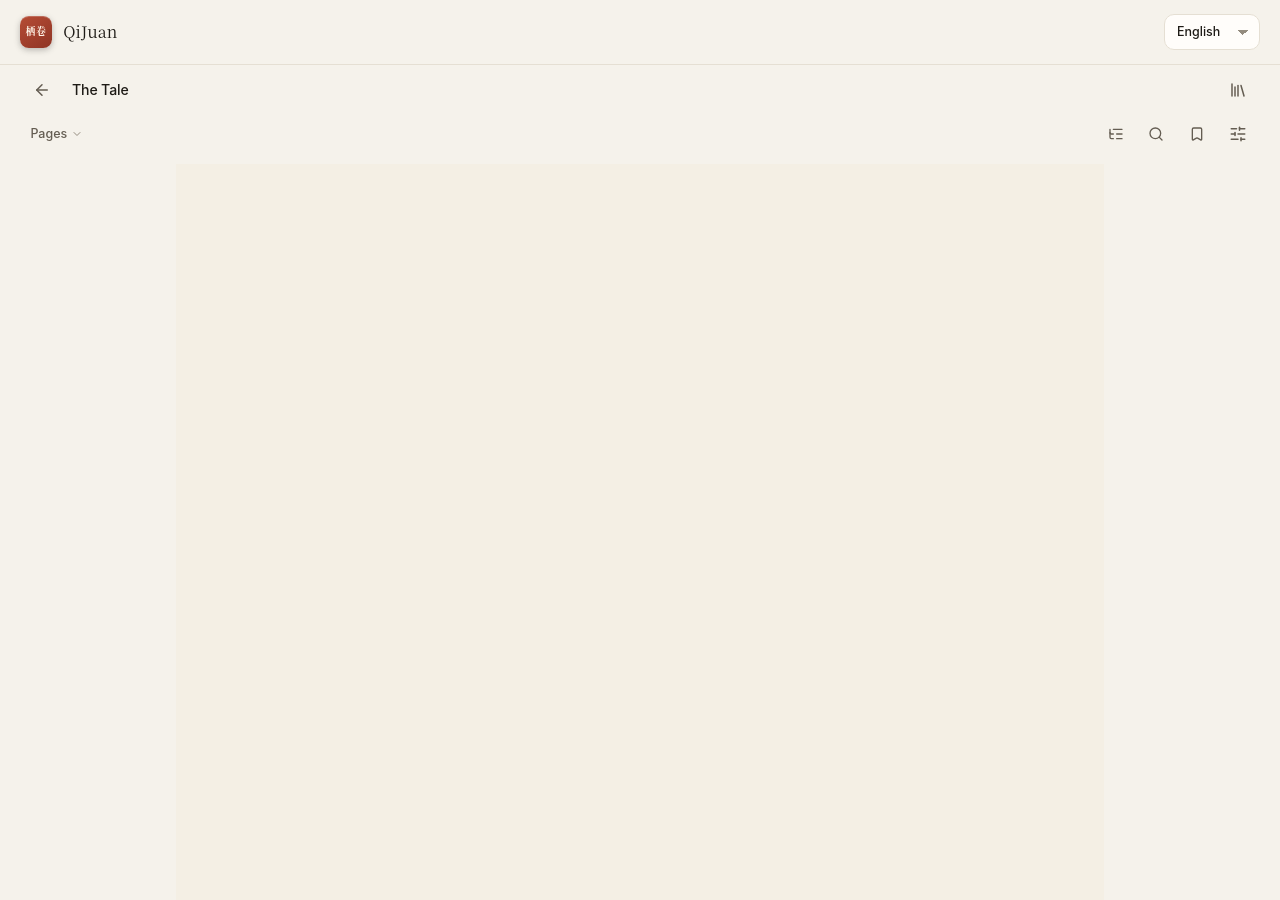
Test: epub reader › keeps PDF annotations out of EPUB lists in an edition with both formats
Expected: the dropdown named "Reading mode" is enabled, x1=24 y1=116 x2=89 y2=152
Click the button named "Reading options": (1238, 134) x1=1220 y1=116 x2=1256 y2=152
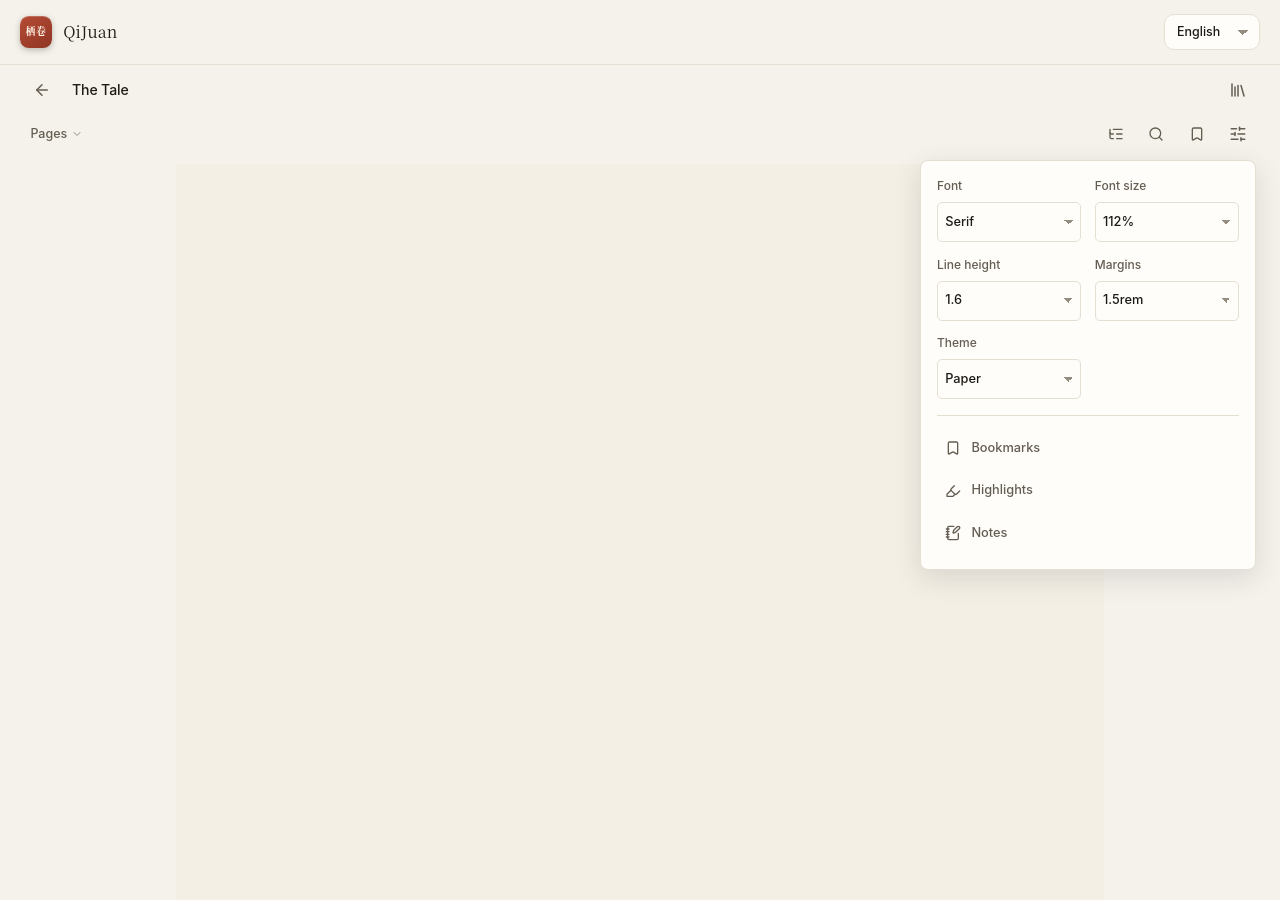
Click the button "Highlights": (1002, 490) x1=937 y1=471 x2=1239 y2=511
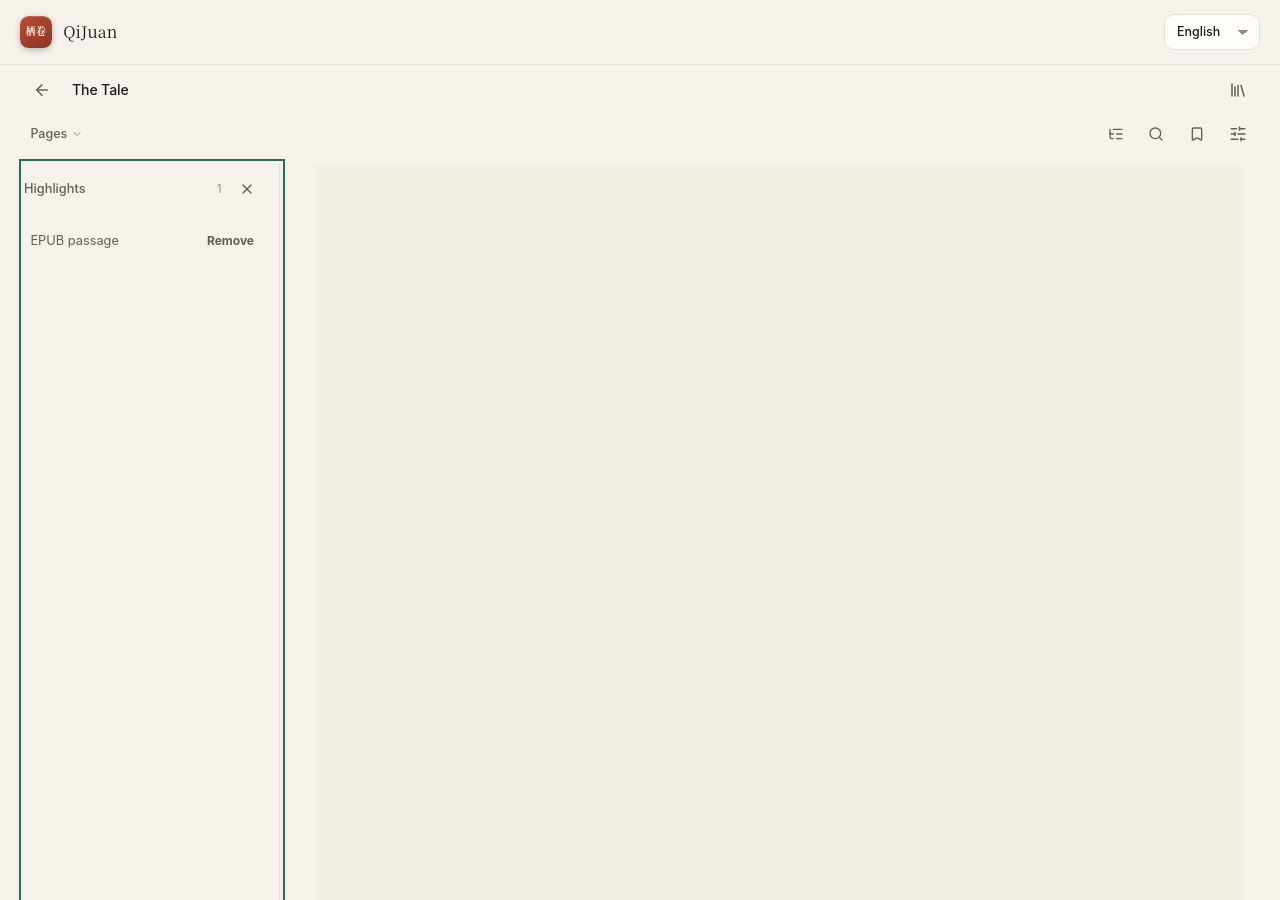
Expected: the button "EPUB passage" is shown, x1=24 y1=223 x2=191 y2=259
Click the button named "Reading options": (1238, 134) x1=1220 y1=116 x2=1256 y2=152
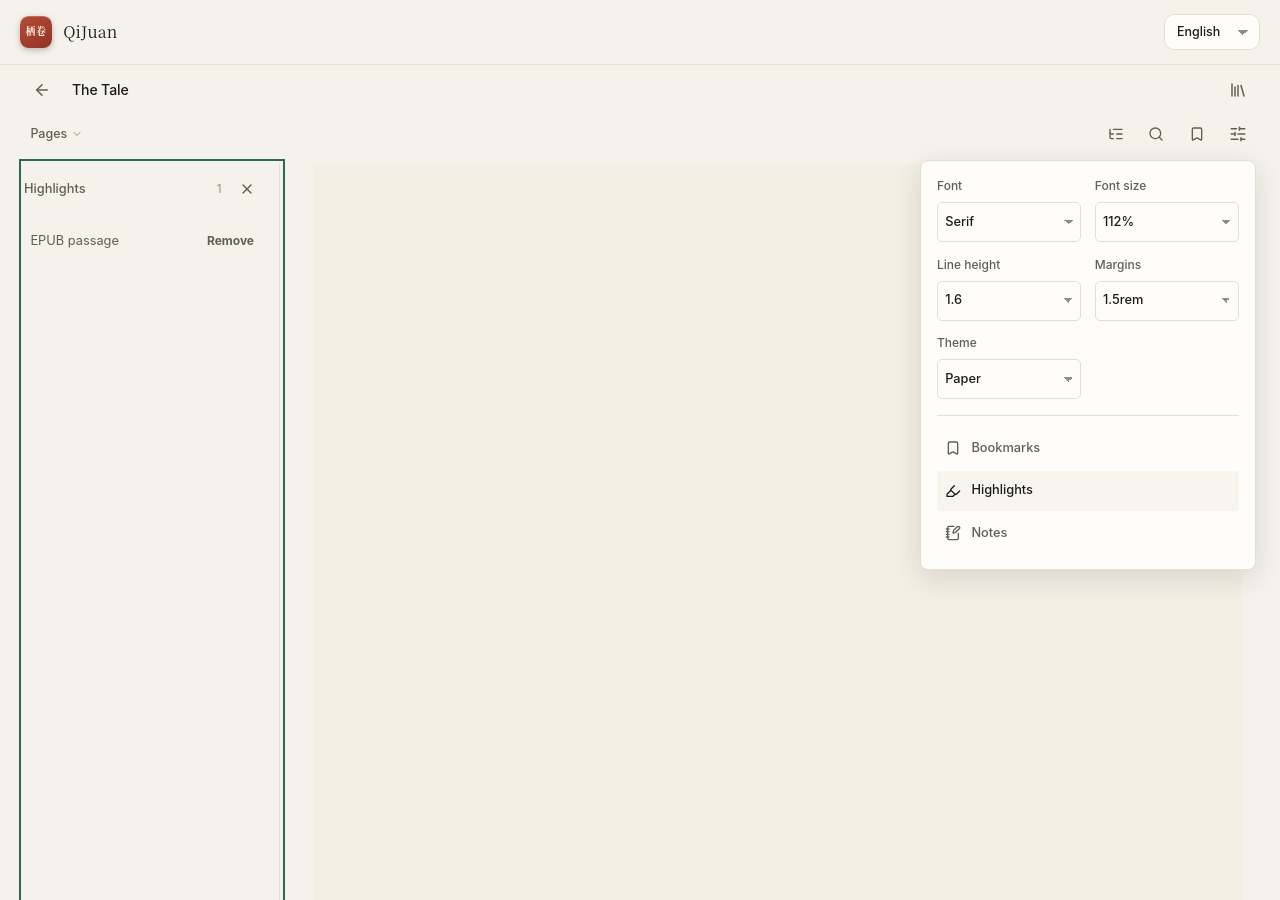
Click the button "Notes": (989, 532) x1=937 y1=513 x2=1239 y2=553
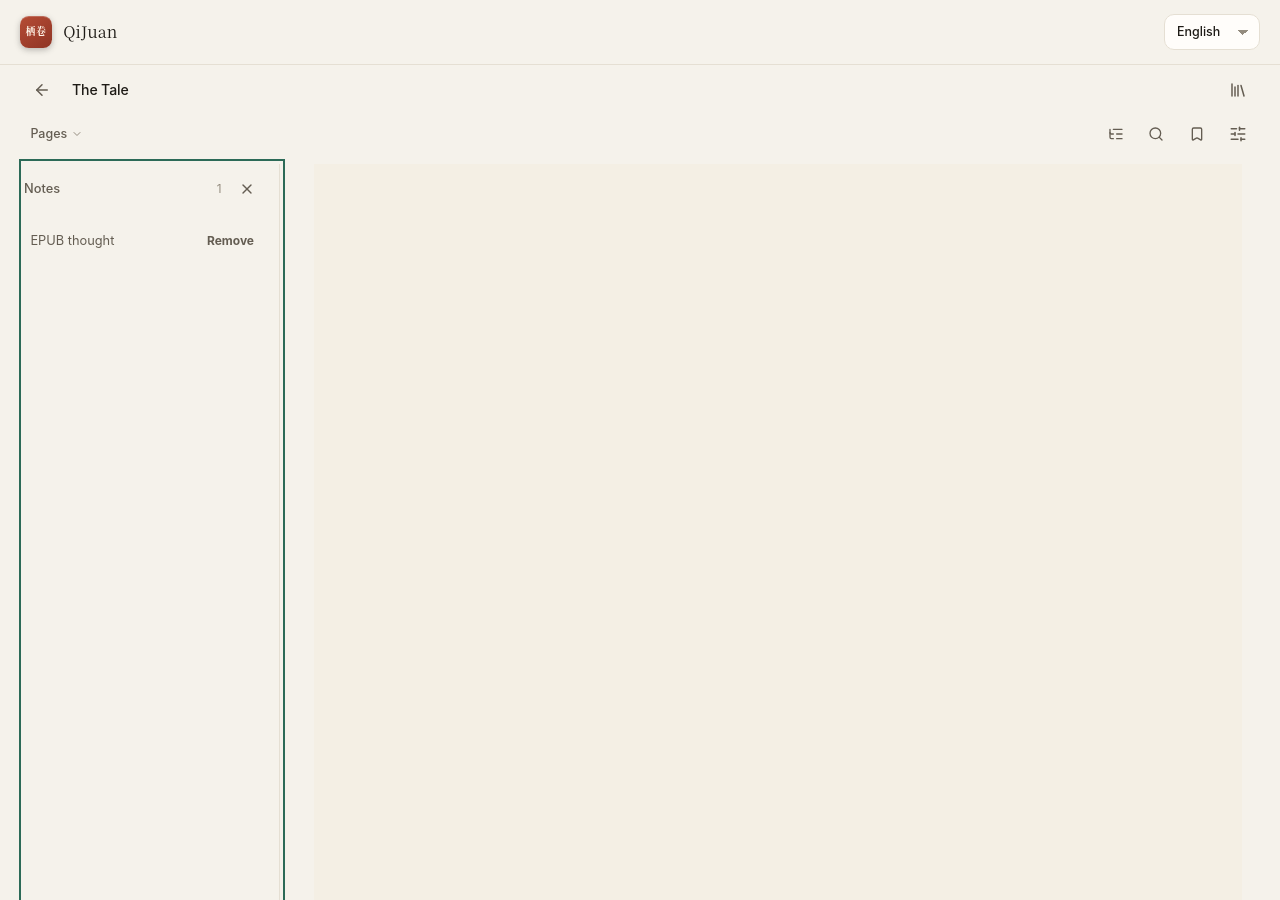
Expected: the button "EPUB thought" is shown, x1=24 y1=223 x2=191 y2=259
